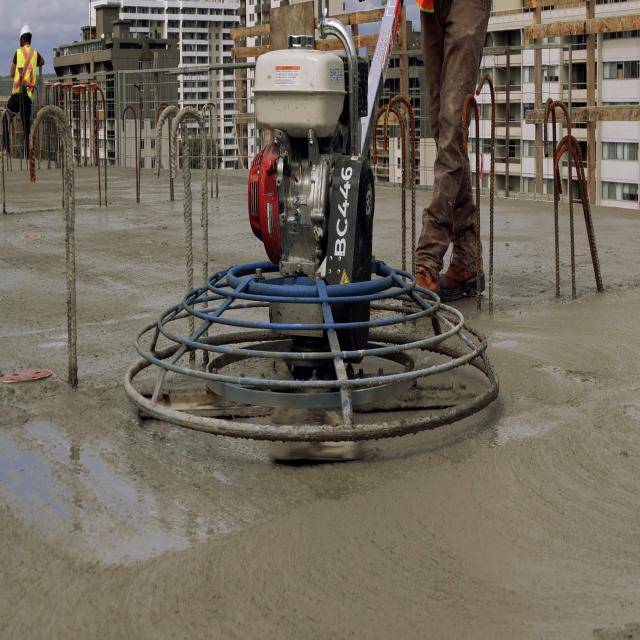Boots: (418, 213, 488, 314)
Helmet: (20, 25, 33, 41)
Vest: (10, 46, 37, 98)
